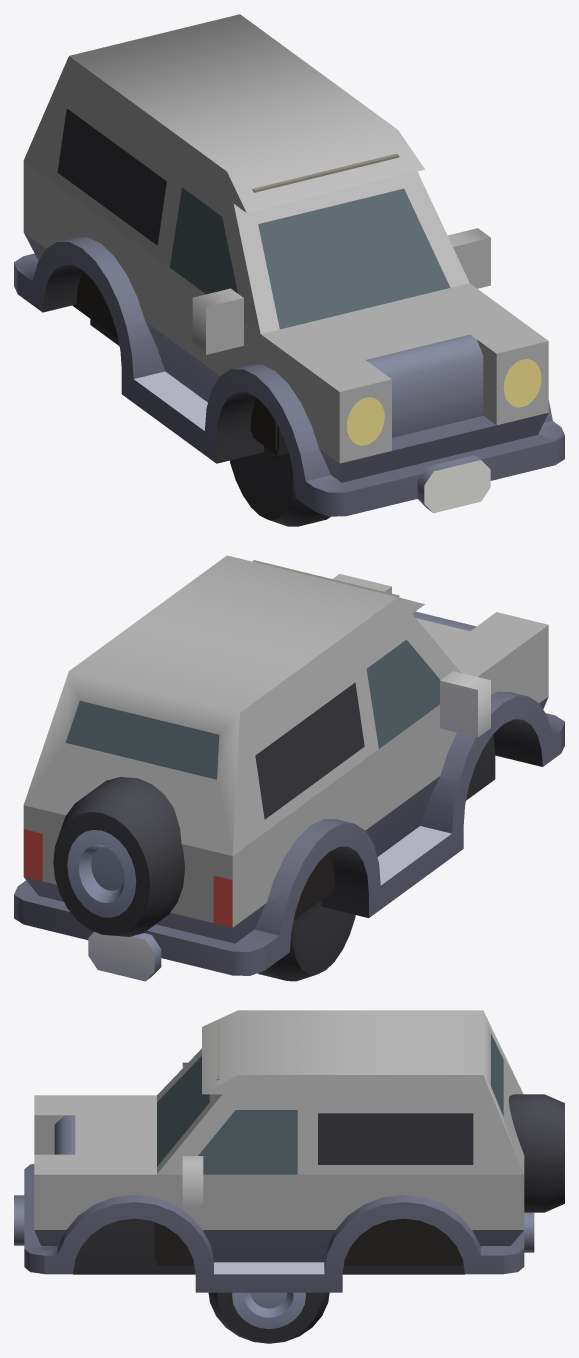
The model's file is island-suv-v1.glb.
3 views of the same model, one above another, from view 1: azimuth 30°, elevation 25°; view 2: azimuth 150°, elevation 25°; view 3: azimuth 270°, elevation 25° (orthographic). The views are drawn at different scales.
Visible parts, largest first — view 1: paint, trim, glass, wheel, interior, headlamp, plate; view 2: paint, trim, glass, wheel, taillamp, interior; view 3: paint, trim, glass, interior, wheel.
Part boxes in pixels (left/top/right/bottom): paint: left=23, top=14, right=548, bottom=463; trim: left=14, top=108, right=564, bottom=516; glass: left=170, top=187, right=450, bottom=329; wheel: left=230, top=452, right=330, bottom=526; interior: left=72, top=153, right=399, bottom=455; headlamp: left=347, top=359, right=541, bottom=445; plate: left=424, top=460, right=490, bottom=512; paint: left=23, top=555, right=548, bottom=927; trim: left=14, top=611, right=564, bottom=981; glass: left=65, top=639, right=440, bottom=779; wheel: left=257, top=906, right=355, bottom=981; taillamp: left=23, top=829, right=232, bottom=927; interior: left=252, top=560, right=399, bottom=920; paint: left=34, top=1010, right=524, bottom=1229; trim: left=14, top=1094, right=564, bottom=1292; glass: left=157, top=1034, right=503, bottom=1174; interior: left=154, top=1024, right=463, bottom=1265; wheel: left=208, top=1292, right=329, bottom=1343.
Size of the model in its own units: 1.88 by 2.4 by 4.05.
Materials: 8 (2 with a texture image).
